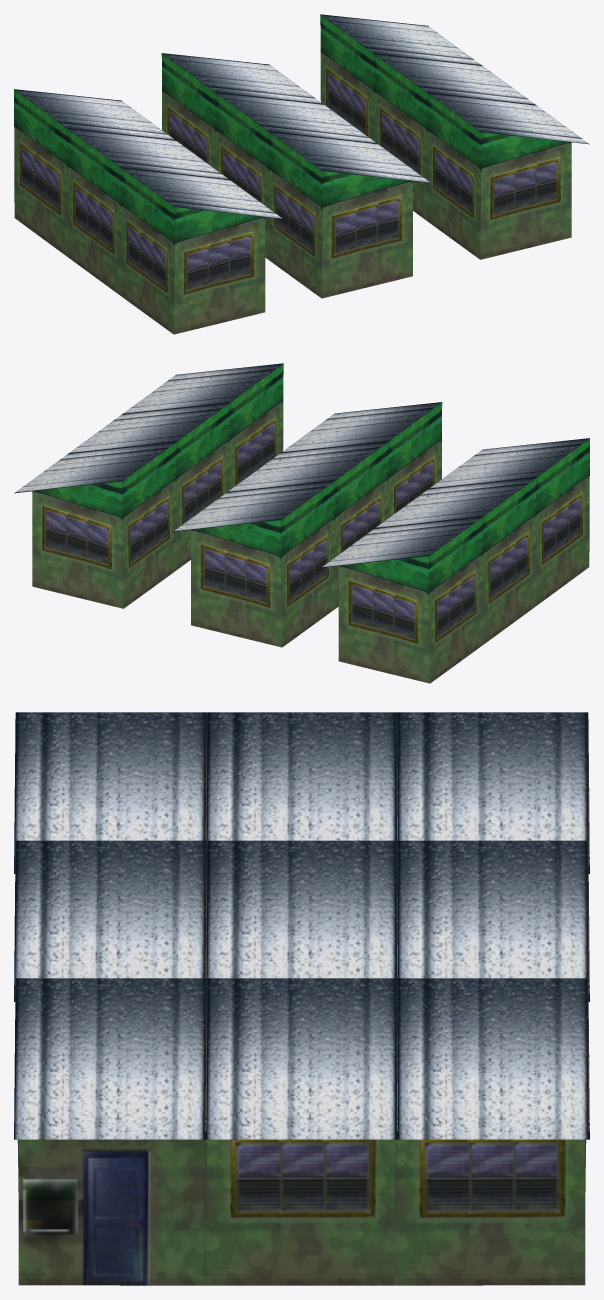
Rendered from tower06.glb.
3 renders of one model, top to bottom at view 1: azimuth 30°, elevation 25°; view 2: azimuth 150°, elevation 25°; view 3: azimuth 270°, elevation 25°, orthographic. The views are drawn at different scales.
Parts seen in each view (by area): view 1: tower06; view 2: tower06; view 3: tower06.
Part boxes in pixels (x1,y1,x2,y2): tower06: (14,14,589,334); tower06: (14,363,589,683); tower06: (14,712,589,1285).
Bounding box in the file's own units: 2506 × 742 × 1695.
Materials: 1 (1 with a texture image).
